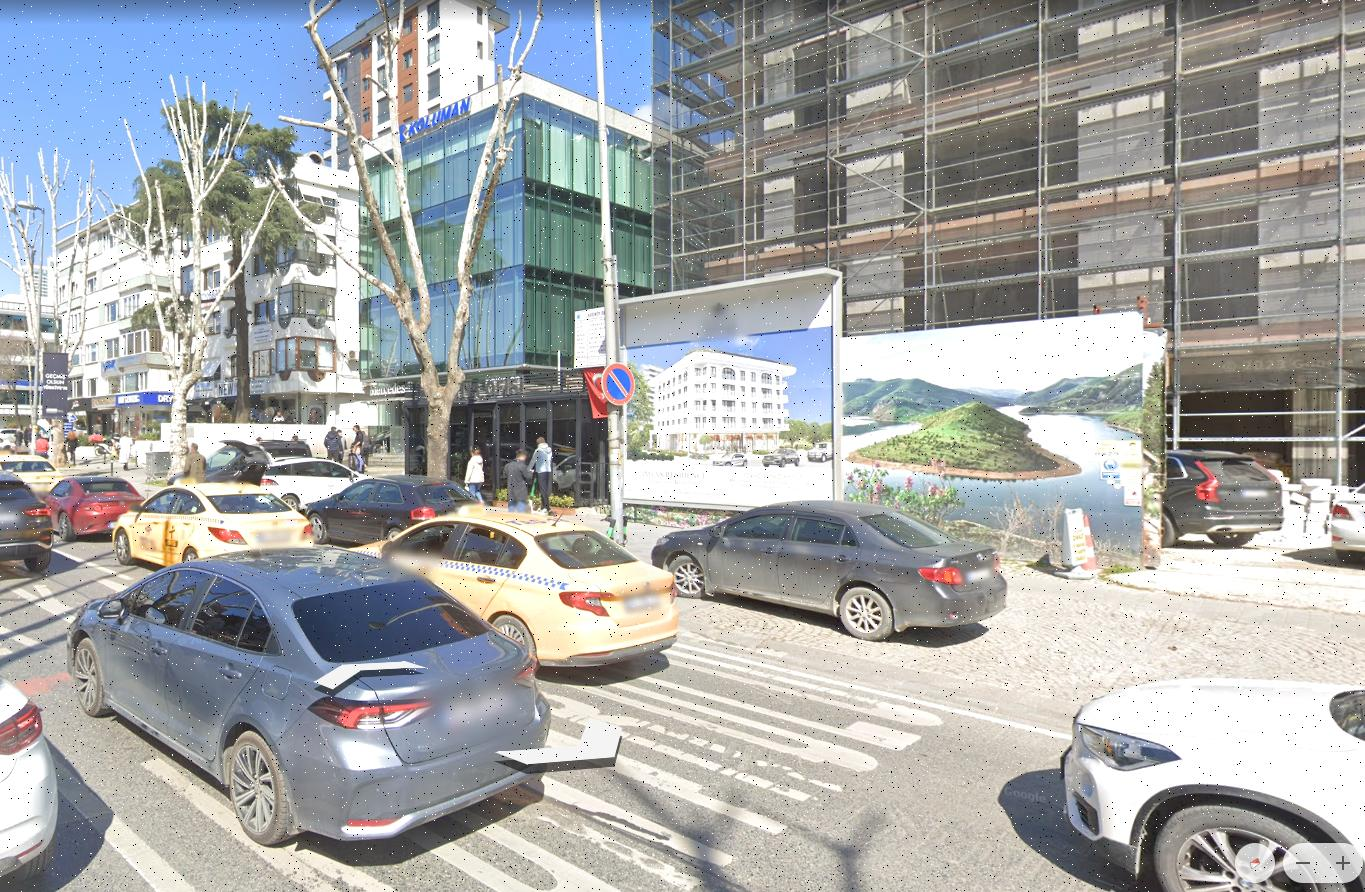nopark: (604, 364, 633, 404)
